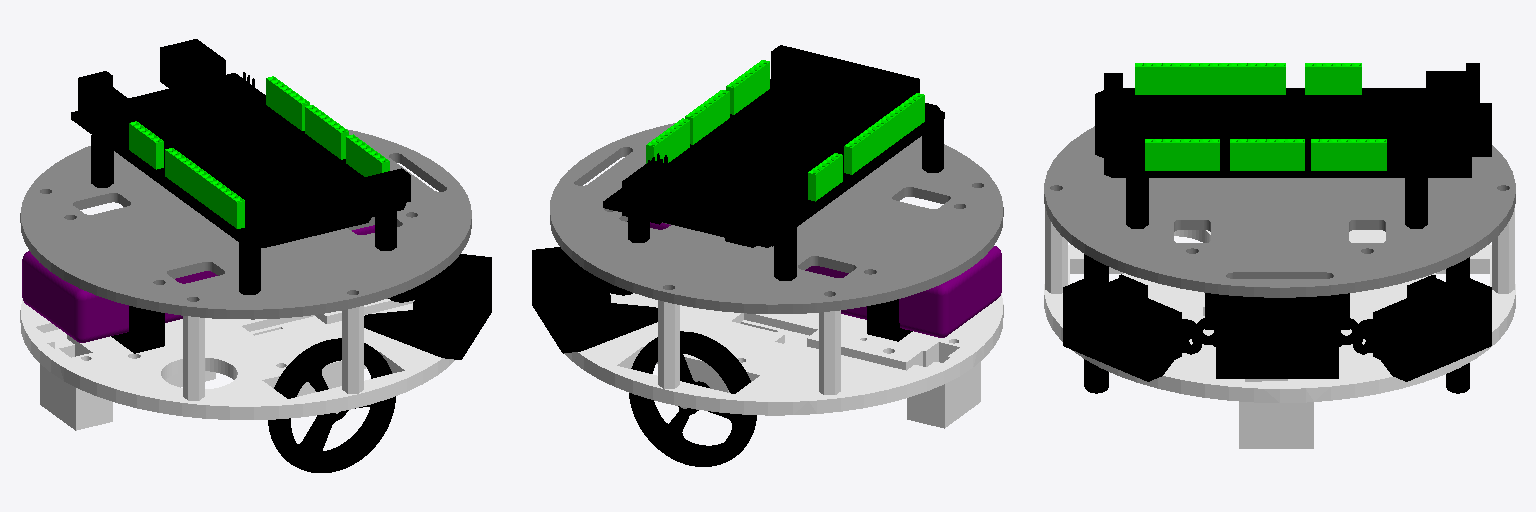
URDF robot description (robotcraft):
<?xml version="1.0"?>
<robot name="robotcraft">
    

<!-- ..Material Definitions.. -->
  <material name="black">
    <color rgba="0 0 0 1"/>
  </material>
  <material name="white">
    <color rgba="1 1 1 1"/>
  </material>
  <material name="red">
    <color rgba="0.8 0 0 1"/>
  </material>
  <material name="green">
    <color rgba="0 1 0 1"/>
  </material>
  <material name="purple">
    <color rgba="0.5 0 0.5 1"/>
  </material>
  <material name="transparent">
    <color rgba="0.6 0.6 0.6 0.35"/>
  </material>
  

<!-- ..Link Definitions.. -->
<link name="base_link">
    <visual>
      <origin rpy="0 0 3.14159265359" xyz="0.03 -0.005 -0.09"/> 
        <geometry>
            <mesh filename="package://robotcraft_robot_description/mesh/Black.stl" scale="0.001 0.001 0.001"/>
        </geometry>
        <material name="black"/>
    </visual>
</link>



<link name="bottom_base">
    <visual>
        <geometry>
            <mesh filename="package://robotcraft_robot_description/mesh/White.stl" scale="0.001 0.001 0.001"/>
        </geometry>
        <origin rpy="0 0 3.14159265359" xyz="0 -0.005 -0.11"/> 
        <material name="white"/>
    </visual>
</link>


<link name="acrylic_base">
    <visual>
        <geometry>
            <mesh filename="package://robotcraft_robot_description/mesh/Transparent.stl" scale="0.001 0.001 0.001"/>
        </geometry>
        <origin rpy="0 0 3.14159265359" xyz="0 -0.005 -0.145"/>
        <material name="transparent"/>
    </visual>
</link>


<link name="arduino">
    <visual>
        <geometry>
            <mesh filename="package://robotcraft_robot_description/mesh/Green.stl" scale="0.001 0.001 0.001"/>
        </geometry>
        <origin rpy="0 0 3.14159265359" xyz="0 -0.005 -0.17"/>
        <material name="green"/>
    </visual>
</link>


<link name="battery">
    <visual>
        <geometry>
            <mesh filename="package://robotcraft_robot_description/mesh/Purple.stl" scale="0.001 0.001 0.001"/>
        </geometry>
        <origin rpy="0 0 3.14159265359" xyz="0.015 -0.005 -0.135"/>
        <material name="purple"/>
    </visual>
</link>


<link name="front_lf">
    <visual>
        <geometry>
            <mesh filename="package://robotcraft_robot_description/mesh/Red.stl" scale="0.001 0.001 0.001"/>
        </geometry>
        <origin rpy="0 0 3.14159265359" xyz="-0.06 -0.005 -0.1"/>
        <material name="red"/>
    </visual>
</link>


<link name="back_lf"/>

<link name="front_ir"/>

<link name="right_ir"/>

<link name="left_ir"/>


    

<!-- ..Joint Definitions..  -->

    
<joint name="base_link_to_bottom_base" type="fixed">
    <parent link="base_link"/>
    <child link="bottom_base"/>
    <origin rpy="0 0 0" xyz="0 0 0.02"/>
</joint>

<joint name="base_link_to_arduino" type="fixed">
    <parent link="base_link"/>
    <child link="arduino"/>
    <origin rpy="0 0 0" xyz="0 0 0.08"/>
</joint>

<joint name="base_link_to_battery" type="fixed">
    <parent link="base_link"/>
    <child link="battery"/>
    <origin rpy="0 0 0" xyz="-0.015 0 0.045"/>
</joint>


<joint name="base_link_to_front_lf_sensor" type="fixed">
    <parent link="base_link"/>
    <child link="front_lf"/>
    <origin rpy="0 0 0" xyz="0.06 0 0.01"/>
</joint>


<joint name="base_link_to_acrylic_base" type="fixed">
    <parent link="base_link"/>
    <child link="acrylic_base"/>
    <origin rpy="0 0 0" xyz="0 0 0.055"/>
</joint>

<!-- 4 more joints: back_lf_sensor, front_ir, right_ir, left_ir -->

<joint name="base_link_to_back_lf_sensor" type="fixed">
    <parent link="base_link"/>
    <child link="back_lf"/>
    <origin rpy="0 0 0" xyz="-0.06 0 0.01"/>
</joint>

<joint name="base_link_to_front_ir_sensor" type="fixed">
    <parent link="base_link"/>
    <child link="front_ir"/>
    <origin rpy="0 0 0" xyz="0.052 0 0.035"/>
</joint>

<joint name="base_link_to_right_ir_sensor" type="fixed">
    <parent link="base_link"/>
    <child link="right_ir"/>
    <origin rpy="0 0 -0.78539816339" xyz="0.0438 -0.048 0.035"/>
</joint>

<joint name="base_link_to_left_ir_sensor" type="fixed">
    <parent link="base_link"/>
    <child link="left_ir"/>
    <origin rpy="0 0 0.78539816339" xyz="0.0438 0.043 0.035"/>
</joint>

</robot>

--- Facts derived from the render (not from the file) ---
Views: 3 orthographic renders of the robot side by side, from view 1: azimuth 30°, elevation 25°; view 2: azimuth 150°, elevation 25°; view 3: azimuth 270°, elevation 25°.
Model robotcraft with 10 links and 9 joints (9 fixed), rooted at base_link, posed all joints at 0.
Visible links, largest first — view 1: base_link, acrylic_base, bottom_base, arduino, battery; view 2: base_link, acrylic_base, bottom_base, arduino, battery; view 3: base_link, acrylic_base, bottom_base, arduino.
Boxes of the visible links, x1,y1,x2,y2 form: base_link: (71,39,491,472); acrylic_base: (20,129,471,319); bottom_base: (20,299,454,430); arduino: (129,76,389,228); battery: (22,225,374,342); base_link: (532,45,944,466); acrylic_base: (550,123,1003,313); bottom_base: (564,293,1003,428); arduino: (646,60,924,201); battery: (650,222,1001,337); base_link: (1063,63,1491,393); acrylic_base: (1044,126,1515,297); bottom_base: (1044,208,1515,448); arduino: (1135,63,1386,170).
Size in the robot's own frame: 0.1272 by 0.1265 by 0.0867 metres.
Meshes: 6 distinct files referenced, 6 mesh visuals loaded (6 binary STL).